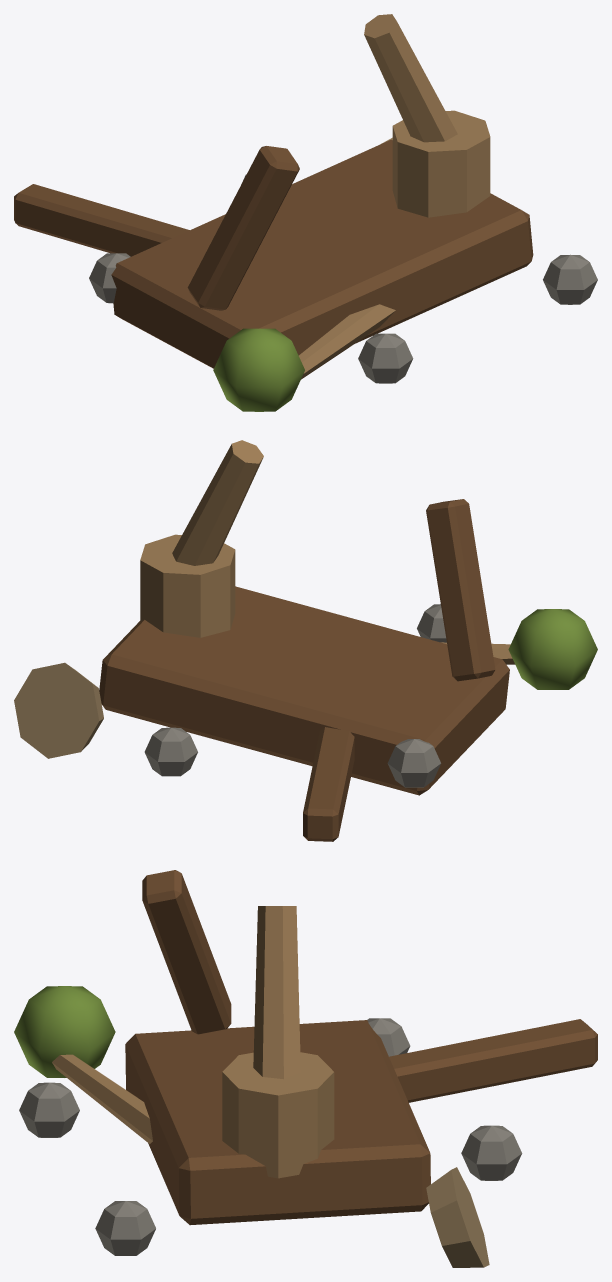
Rendered from sapling_flinger_broken.fbx.
3 renders of one model, top to bottom at view 1: azimuth 30°, elevation 25°; view 2: azimuth 150°, elevation 25°; view 3: azimuth 270°, elevation 25°, orthographic. The views are drawn at different scales.
Parts seen in each view (by area): view 1: Prop; view 2: Prop; view 3: Prop.
Part boxes in pixels (x1,y1,x2,y2): Prop: [14, 14, 597, 411]; Prop: [14, 440, 597, 841]; Prop: [14, 870, 597, 1267].
Bounding box in the file's own units: 1.02 × 1.15 × 0.6699.
